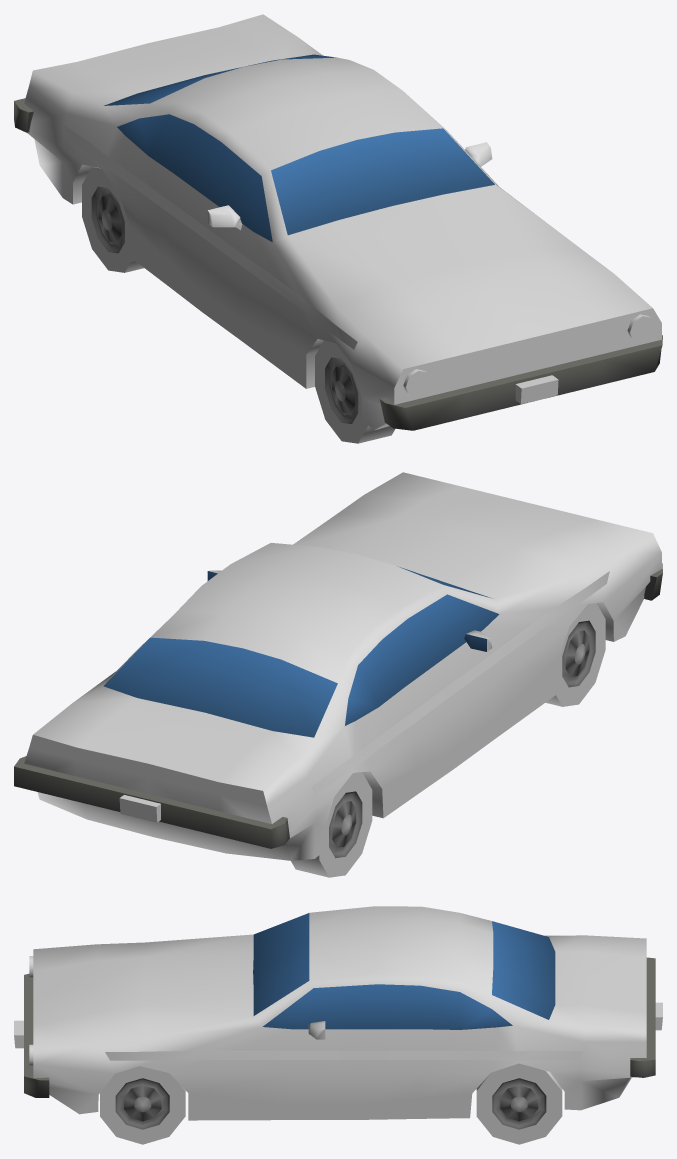
3 views of the same model, one above another, from view 1: azimuth 30°, elevation 25°; view 2: azimuth 150°, elevation 25°; view 3: azimuth 270°, elevation 25° (orthographic). The views are drawn at different scales.
Parts seen in each view (by area): view 1: color.081; view 2: color.081; view 3: color.081.
Boxes of the visible parts, left/top/right/bottom form: color.081: left=14, top=14, right=662, bottom=443; color.081: left=14, top=472, right=662, bottom=877; color.081: left=14, top=906, right=662, bottom=1144.
Bounding box in the file's own units: 0.2006 × 0.1406 × 0.5.
